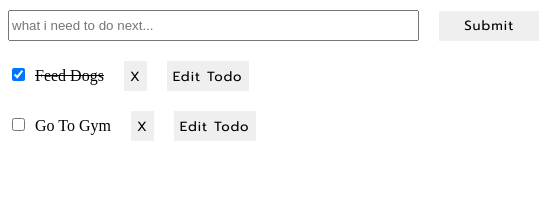
adds a new todo
Expected: the text "Do Homework" is not shown
In the field with test id "new-todo-form-input": (214, 26) [8,10,419,41], type "Do Homework"
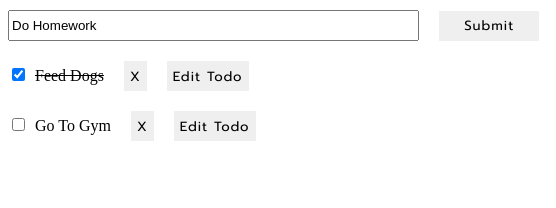
Click the button with test id "new-todo-form-button": (489, 26) [439,10,539,40]
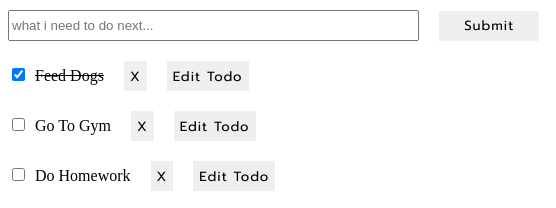
Expected: the text "Do Homework" is shown, [35,166,130,184]
Expected: the field with test id "new-todo-form-input" is empty, [8,10,419,41]
